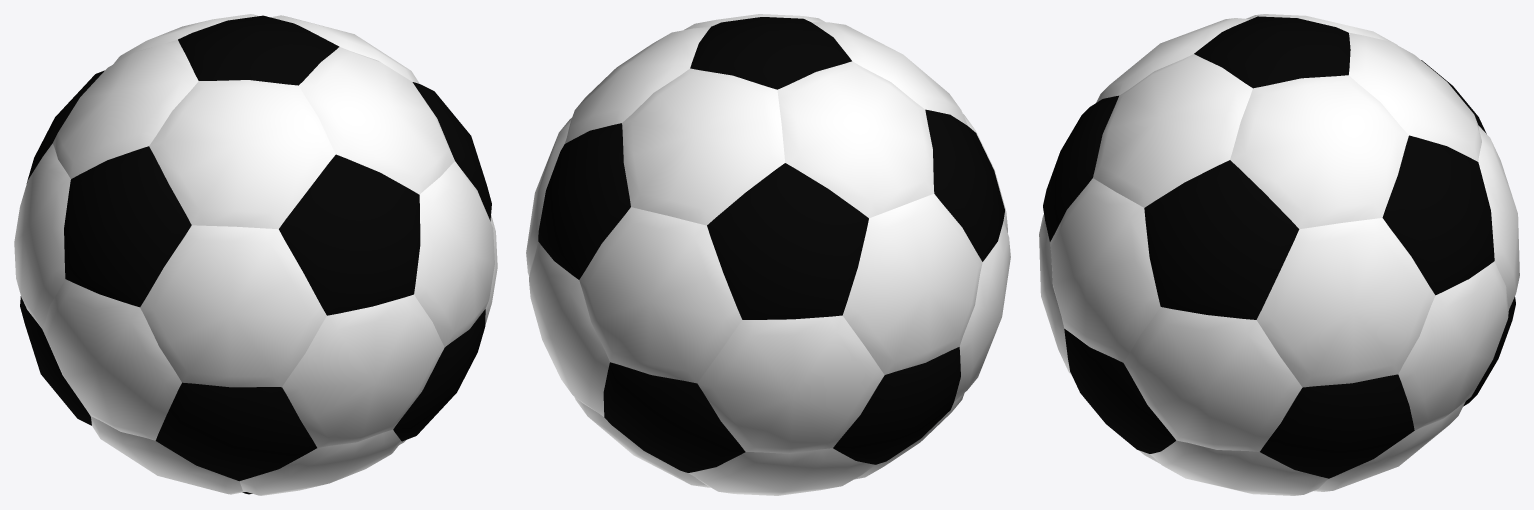
Rendered from soccer_ball.fbx.
3 renders of one model, left to right at view 1: azimuth 30°, elevation 25°; view 2: azimuth 150°, elevation 25°; view 3: azimuth 270°, elevation 25°, orthographic.
Parts seen in each view (by area): view 1: polymsh2; view 2: polymsh2; view 3: polymsh2.
Boxes of the visible parts, x1,y1,x2,y2 form: polymsh2: [14, 14, 497, 495]; polymsh2: [526, 14, 1010, 495]; polymsh2: [1039, 14, 1519, 495].
Bounding box in the file's own units: 6.84 × 6.97 × 6.8.
